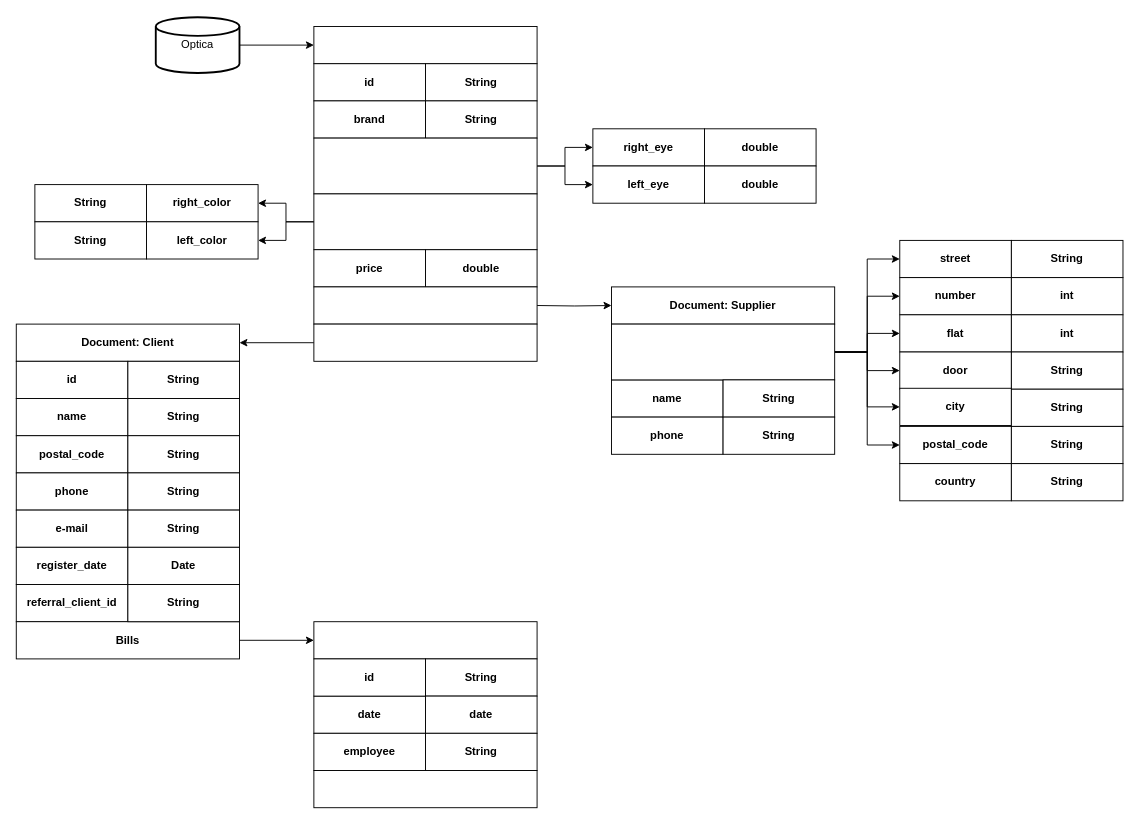
This 1139x824 diagram has some shape labels left out. The shapes that lost their labels are listed below. From the top down, each one's box as (x1, y1, x2, y2) in pixels, then its label:
(313, 26, 537, 64): Document: Eyeglasses
(313, 137, 537, 194): graduation
(313, 193, 537, 250): lenses
(313, 286, 537, 324): Supplier
(313, 323, 537, 361): Client
(611, 323, 835, 380): address
(313, 621, 537, 659): Document: Bills
(313, 770, 537, 808): Eyeglasses
